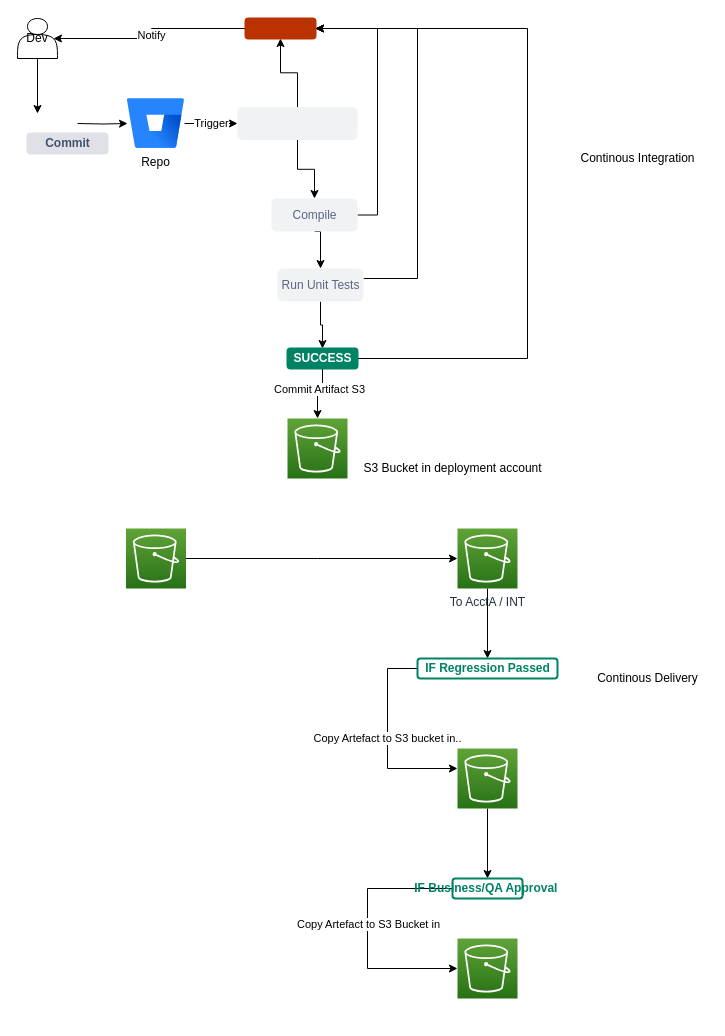
The diagram is 725 pixels wide and 1036 high, and some of its shapes have lost their labels. Each missing label, with the centre of its shape:
"Build Tool" belongs at [297,123].
"Copy from deployment Acct S3 Bucket" belongs at [155,558].
"Fail" belongs at [280,28].
"To AcctB / UAT" belongs at [487,778].
"To AcctC / PROD" belongs at [487,968].
